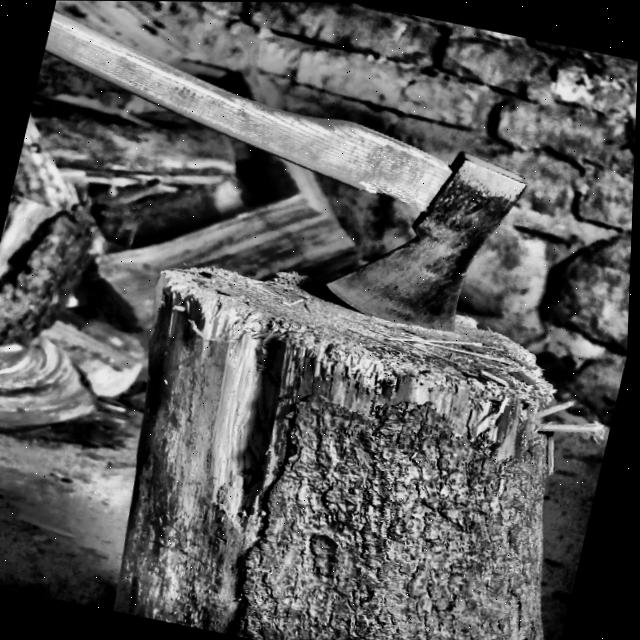kapak: (45, 5, 538, 337)
